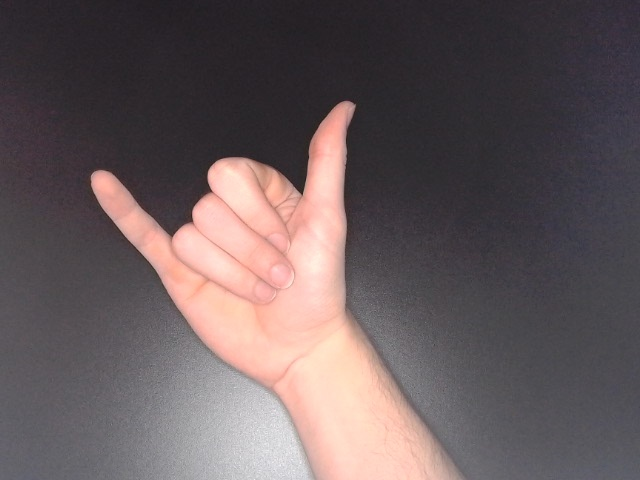y: (84, 95, 367, 400)
